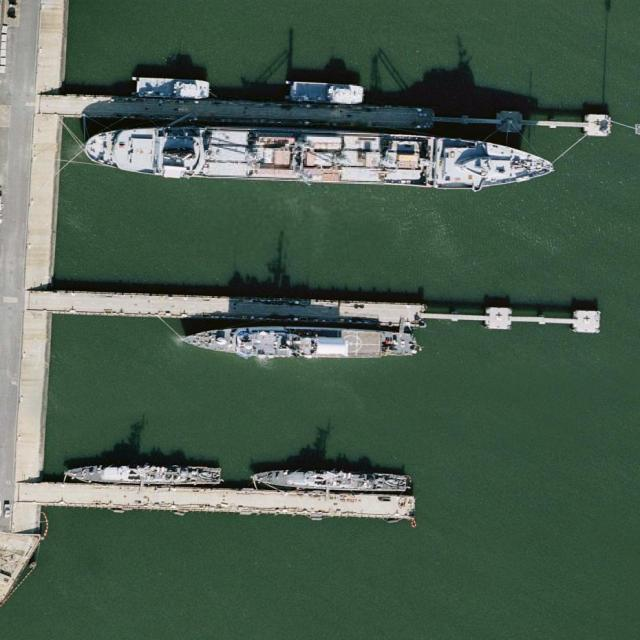Cargo: (81, 119, 557, 196)
Dock: (51, 286, 597, 333), (61, 92, 612, 137), (41, 479, 415, 522)
Other Warship: (171, 323, 419, 360), (63, 461, 222, 486), (250, 468, 413, 491), (290, 81, 364, 105), (136, 76, 209, 96)
